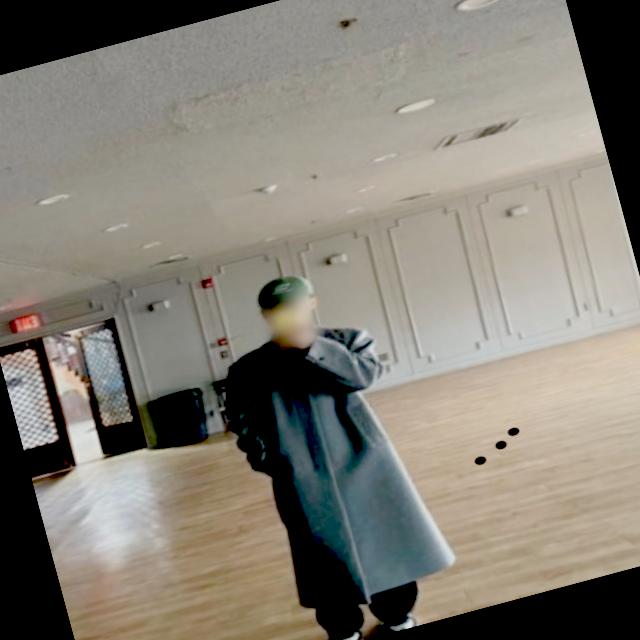coat: (210, 308, 460, 626)
